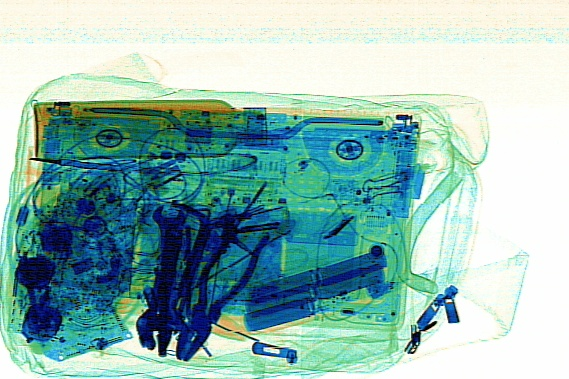powerbank: (240, 245, 396, 335)
